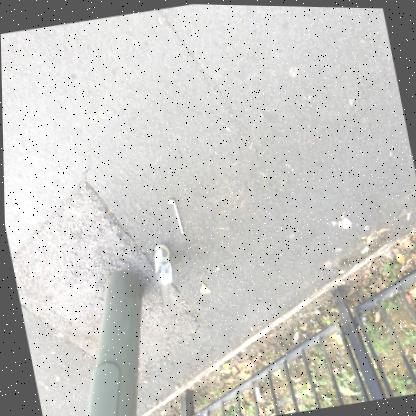Plastic: (153, 244, 171, 312), (166, 198, 182, 232)
Waste: (253, 386, 260, 400)
